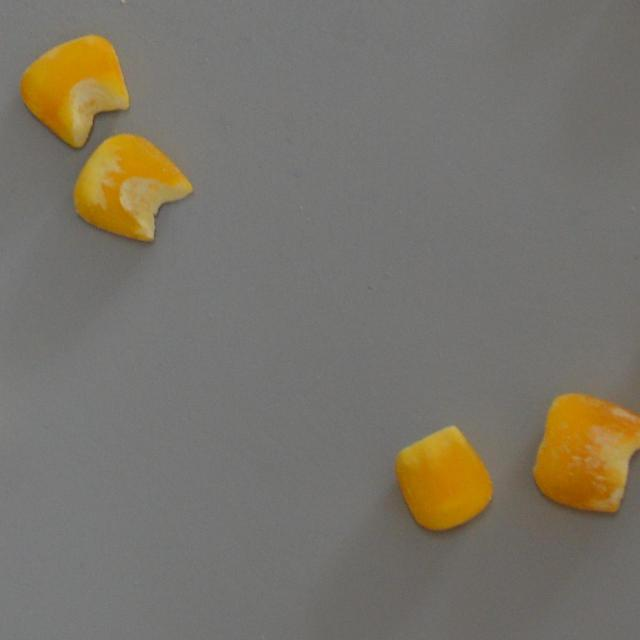dañado: (528, 386, 640, 522)
no_canjicado: (15, 30, 136, 148)
pelicula: (70, 130, 194, 250), (390, 420, 496, 534)
